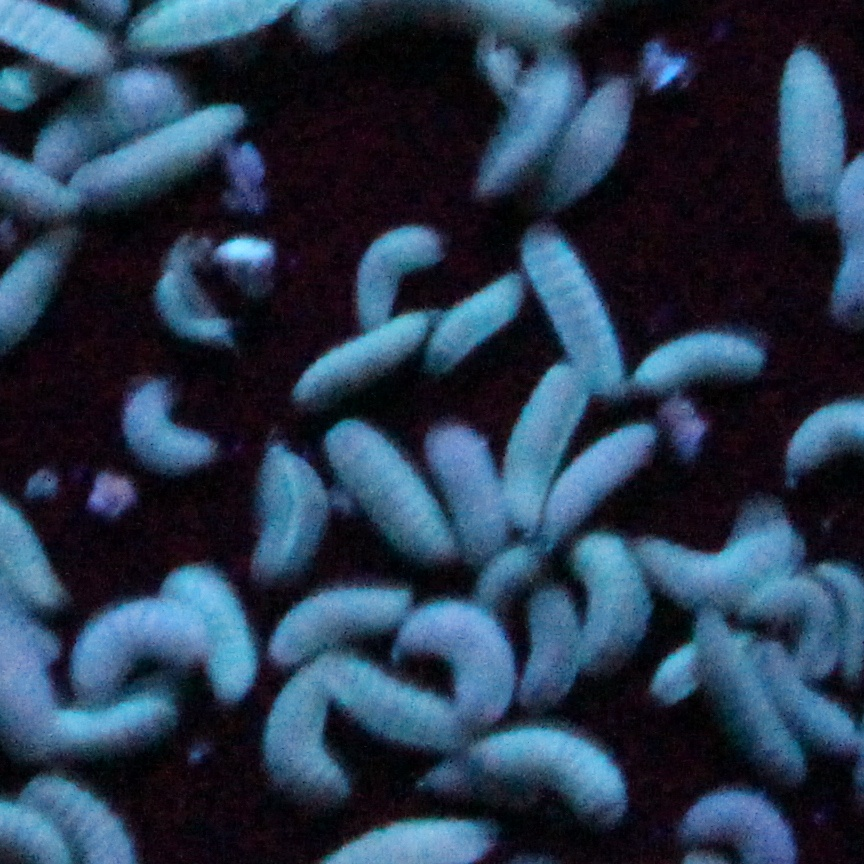larve: (323, 420, 448, 567), (81, 107, 258, 210), (700, 630, 803, 784), (770, 34, 849, 225), (520, 224, 619, 375), (471, 58, 577, 196), (477, 735, 633, 824), (502, 365, 582, 523), (53, 600, 198, 685), (268, 674, 353, 818), (406, 607, 515, 719), (568, 536, 655, 674), (100, 382, 225, 476), (170, 570, 257, 705), (555, 427, 650, 550), (651, 527, 814, 595), (301, 320, 433, 403), (347, 216, 442, 322), (261, 588, 412, 654), (34, 79, 171, 151), (563, 80, 645, 198), (433, 432, 504, 563), (247, 448, 319, 575), (750, 582, 860, 657), (56, 692, 181, 757), (644, 325, 764, 391), (521, 582, 582, 704)
